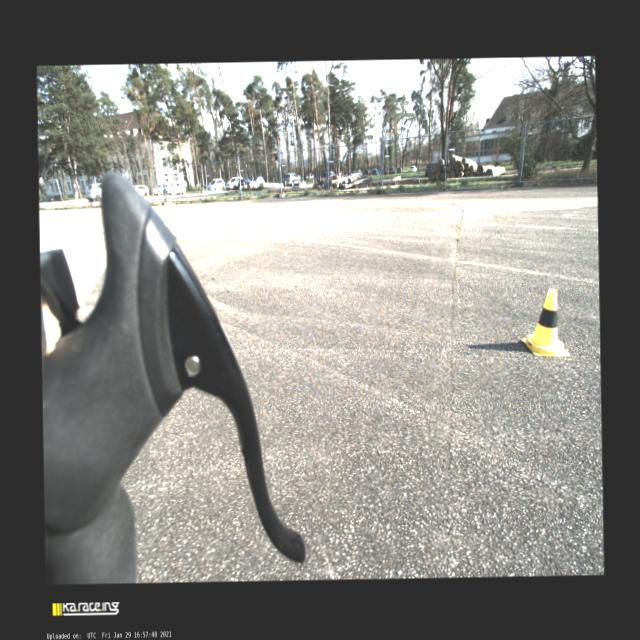yellow_cone: (520, 288, 570, 357)
